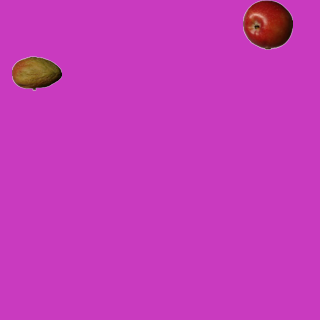Apple Braeburn: (242, 0, 292, 49)
Papaya: (11, 48, 61, 98)
